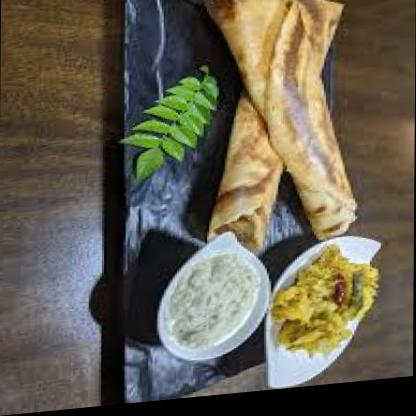dosa: (196, 0, 357, 255), (208, 0, 343, 260)
